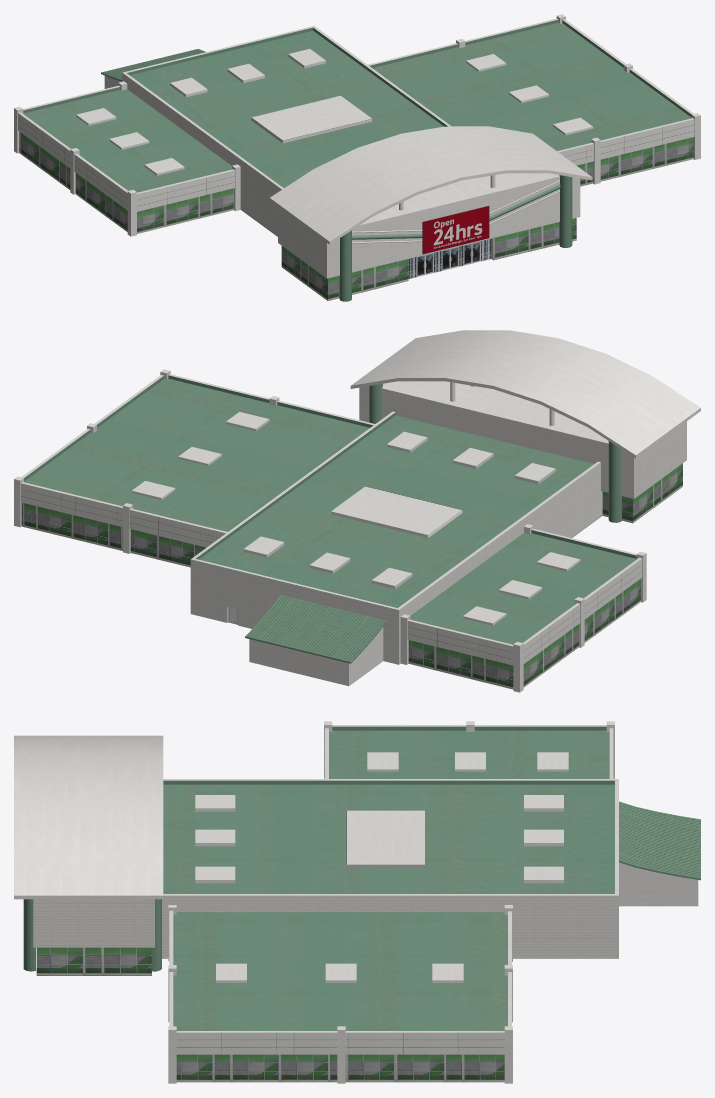
The model's file is uksupermarket7.FBX.
The picture shows the model from 3 angles, top to bottom: view 1: azimuth 30°, elevation 25°; view 2: azimuth 150°, elevation 25°; view 3: azimuth 270°, elevation 25°; orthographic projection. The views are drawn at different scales.
Visible parts, largest first — view 1: Box002; view 2: Box002; view 3: Box002.
Part boxes in pixels (x1=…): Box002: x1=14, y1=14, x2=700, y2=301; Box002: x1=14, y1=330, x2=700, y2=692; Box002: x1=14, y1=721, x2=700, y2=1083.
Bounding box in the file's own units: 184 × 173 × 34.73.
